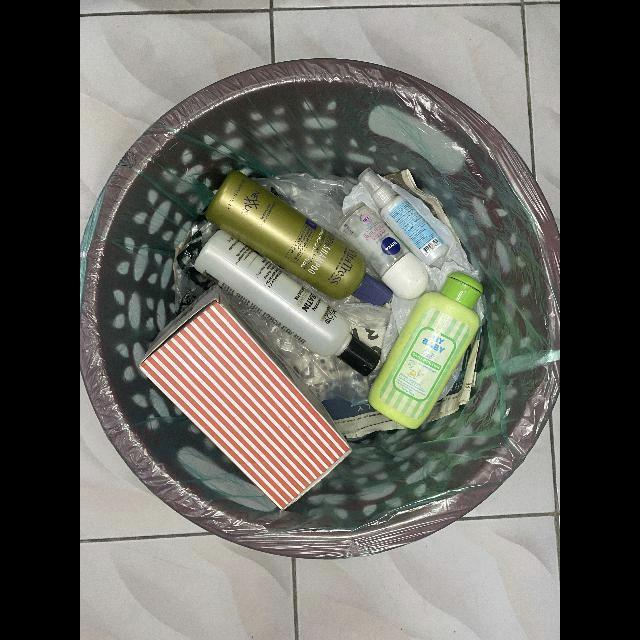cardboard: (139, 285, 353, 511)
glass_bottle: (336, 202, 430, 300)
plastic_bag: (380, 177, 475, 364)
plastic_bottle: (194, 230, 380, 377), (205, 170, 394, 306), (368, 272, 483, 430), (358, 168, 447, 266)
